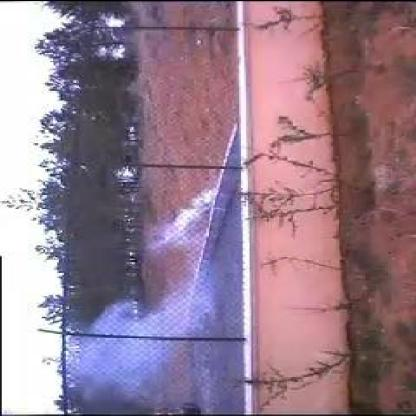-: (67, 182, 221, 390)
